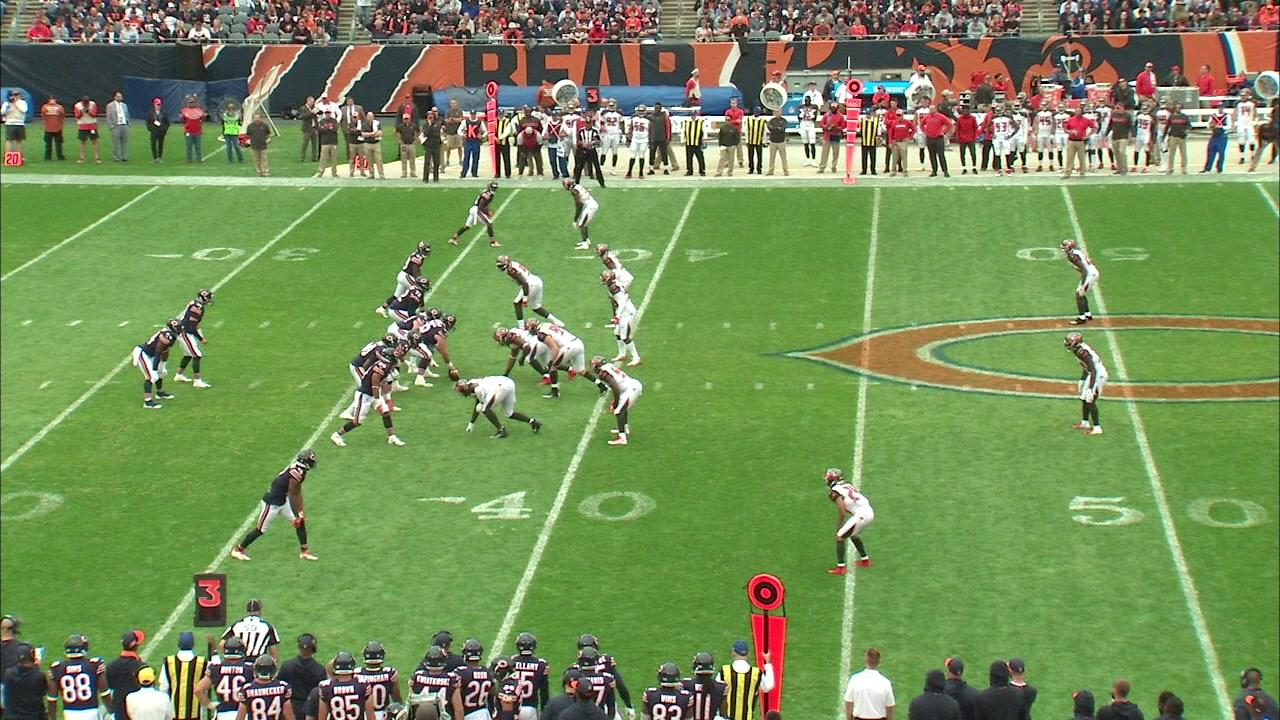player: (222, 449, 322, 567), (823, 464, 874, 583), (453, 374, 542, 442), (335, 352, 397, 446), (588, 353, 643, 447), (533, 321, 599, 398), (1065, 331, 1112, 438), (596, 265, 642, 366), (134, 321, 180, 415), (496, 254, 555, 319), (407, 314, 461, 385), (1058, 238, 1102, 323), (445, 179, 501, 245), (177, 288, 213, 388), (595, 242, 633, 331), (348, 332, 397, 396), (495, 322, 539, 378), (562, 174, 595, 246), (393, 333, 420, 397), (391, 241, 430, 281), (390, 305, 448, 330), (393, 278, 431, 313)
ref: (225, 596, 278, 661), (573, 119, 603, 176)
